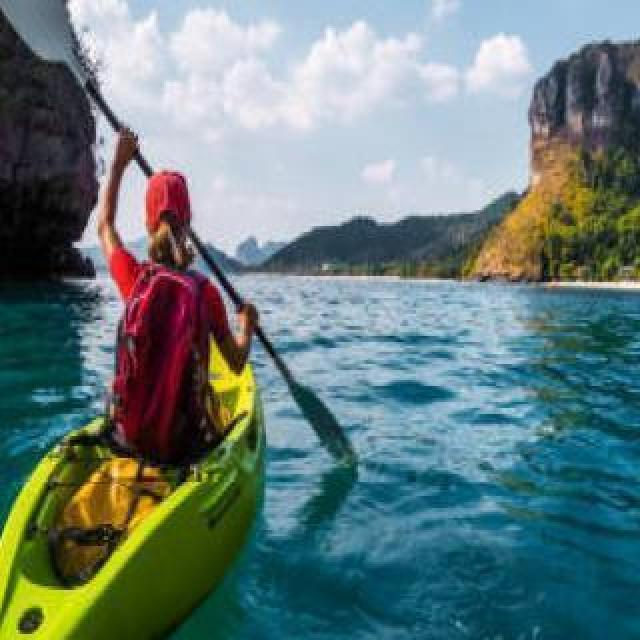kayak: (0, 345, 264, 640)
